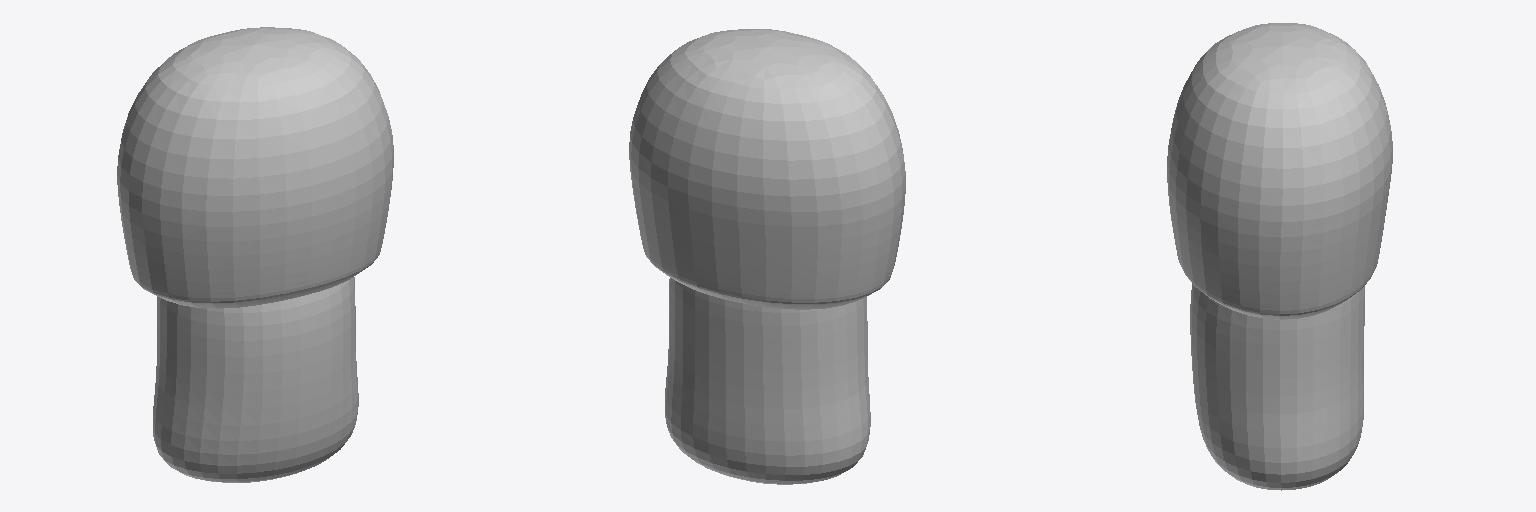
The model's file is abdomem-teste.obj.
3 renders of one model, left to right at view 1: azimuth 30°, elevation 25°; view 2: azimuth 150°, elevation 25°; view 3: azimuth 270°, elevation 25°, orthographic.
Parts seen in each view (by area): view 1: GEO-Body.009_Body.009; view 2: GEO-Body.009_Body.009; view 3: GEO-Body.009_Body.009.
Boxes of the visible parts, box(x1,y1,x2,y2) form: GEO-Body.009_Body.009: box(117, 27, 393, 482); GEO-Body.009_Body.009: box(629, 29, 905, 484); GEO-Body.009_Body.009: box(1167, 23, 1392, 490).
Bounding box in the file's own units: 0.2098 × 0.3329 × 0.1621.